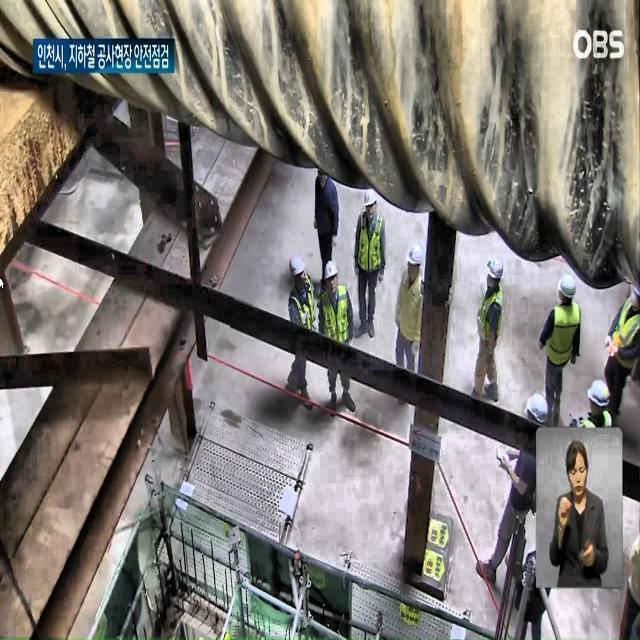safety_helmet: (525, 390, 551, 427), (587, 378, 614, 410), (557, 274, 578, 304), (288, 251, 306, 280), (488, 253, 504, 284), (362, 187, 378, 213), (324, 259, 341, 280), (409, 244, 423, 266)
safety_jacket: (608, 294, 640, 381), (318, 289, 354, 350), (549, 304, 581, 368), (357, 212, 386, 276), (477, 286, 502, 355), (287, 280, 316, 338)
